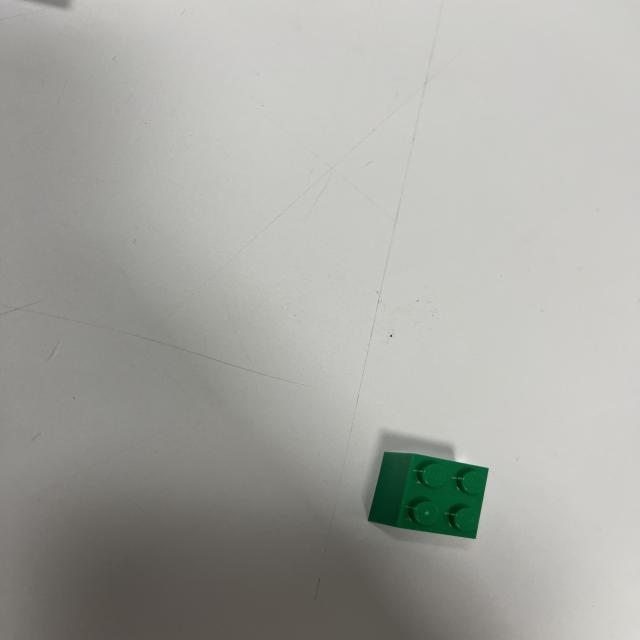C2x2x1: (364, 446, 494, 540)
